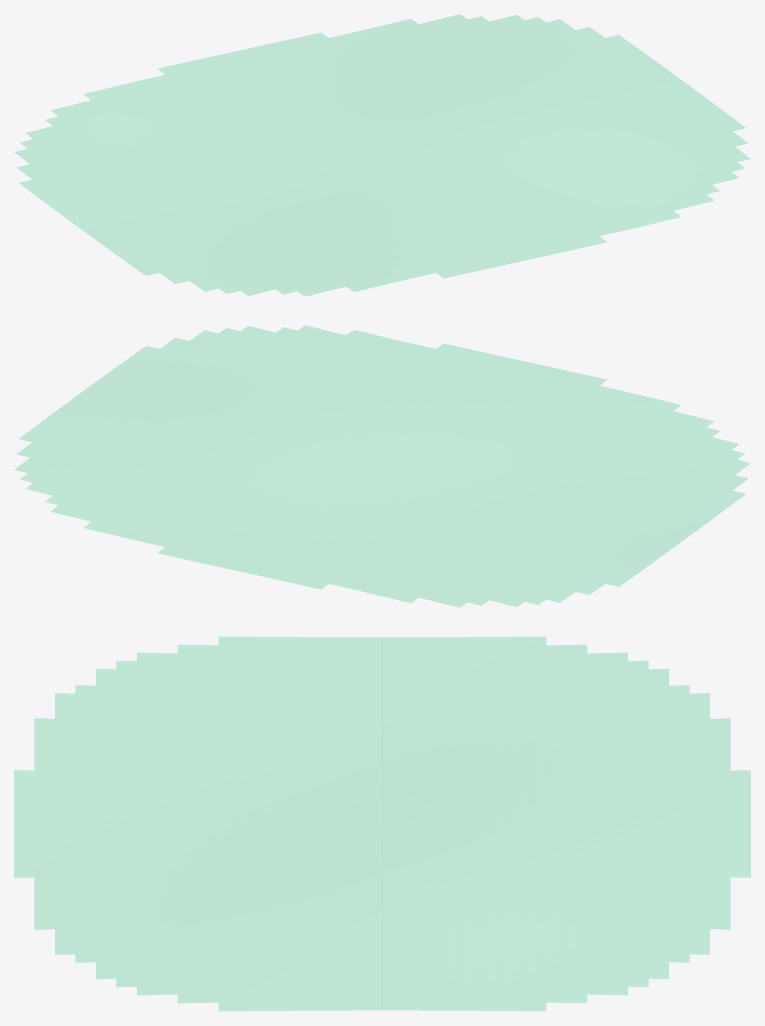
The model's file is forest-navmesh.glb.
3 views of the same model, one above another, from view 1: azimuth 30°, elevation 25°; view 2: azimuth 150°, elevation 25°; view 3: azimuth 270°, elevation 25° (orthographic). The views are drawn at different scales.
Parts seen in each view (by area): view 1: NAV_Walkable; view 2: NAV_Walkable; view 3: NAV_Walkable.
Part boxes in pixels (bbox=[...]): NAV_Walkable: bbox=[14, 14, 750, 296]; NAV_Walkable: bbox=[14, 325, 750, 607]; NAV_Walkable: bbox=[14, 637, 750, 1010].
Size of the model in its own units: 73.33 by 1.25 by 60.63.
